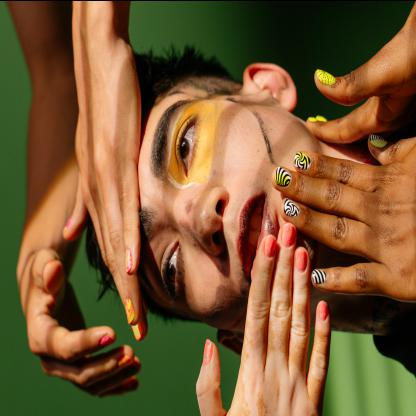Eye: (175, 114, 199, 176), (160, 240, 184, 301)
Mouth: (236, 190, 268, 282)
Nose: (175, 187, 229, 253)
